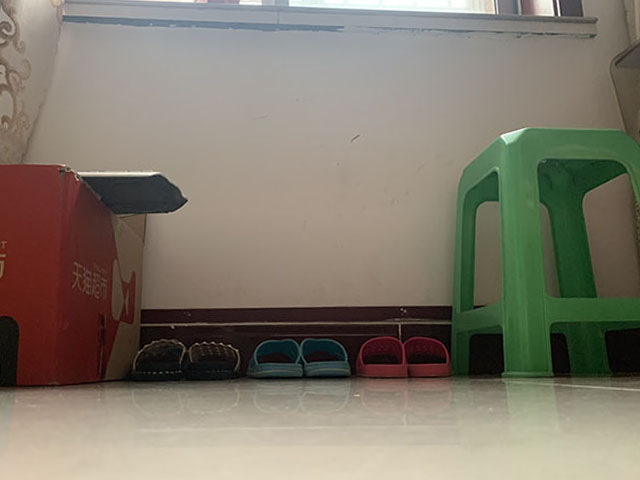slippers: (130, 336, 189, 380), (186, 336, 245, 380), (299, 335, 352, 379), (250, 335, 303, 379), (356, 336, 407, 378), (405, 336, 449, 378)
stool: (454, 124, 640, 386)
